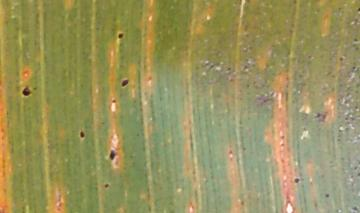tarspot: (313, 110, 327, 123), (19, 84, 32, 97), (108, 148, 117, 161), (78, 127, 86, 141), (119, 78, 130, 88), (116, 31, 125, 40), (350, 205, 360, 213), (103, 182, 110, 189), (293, 177, 300, 184), (338, 55, 345, 62), (352, 36, 358, 43), (324, 192, 330, 198), (356, 5, 360, 14), (111, 98, 116, 105), (350, 65, 357, 70), (243, 1, 254, 4), (227, 66, 231, 72)
